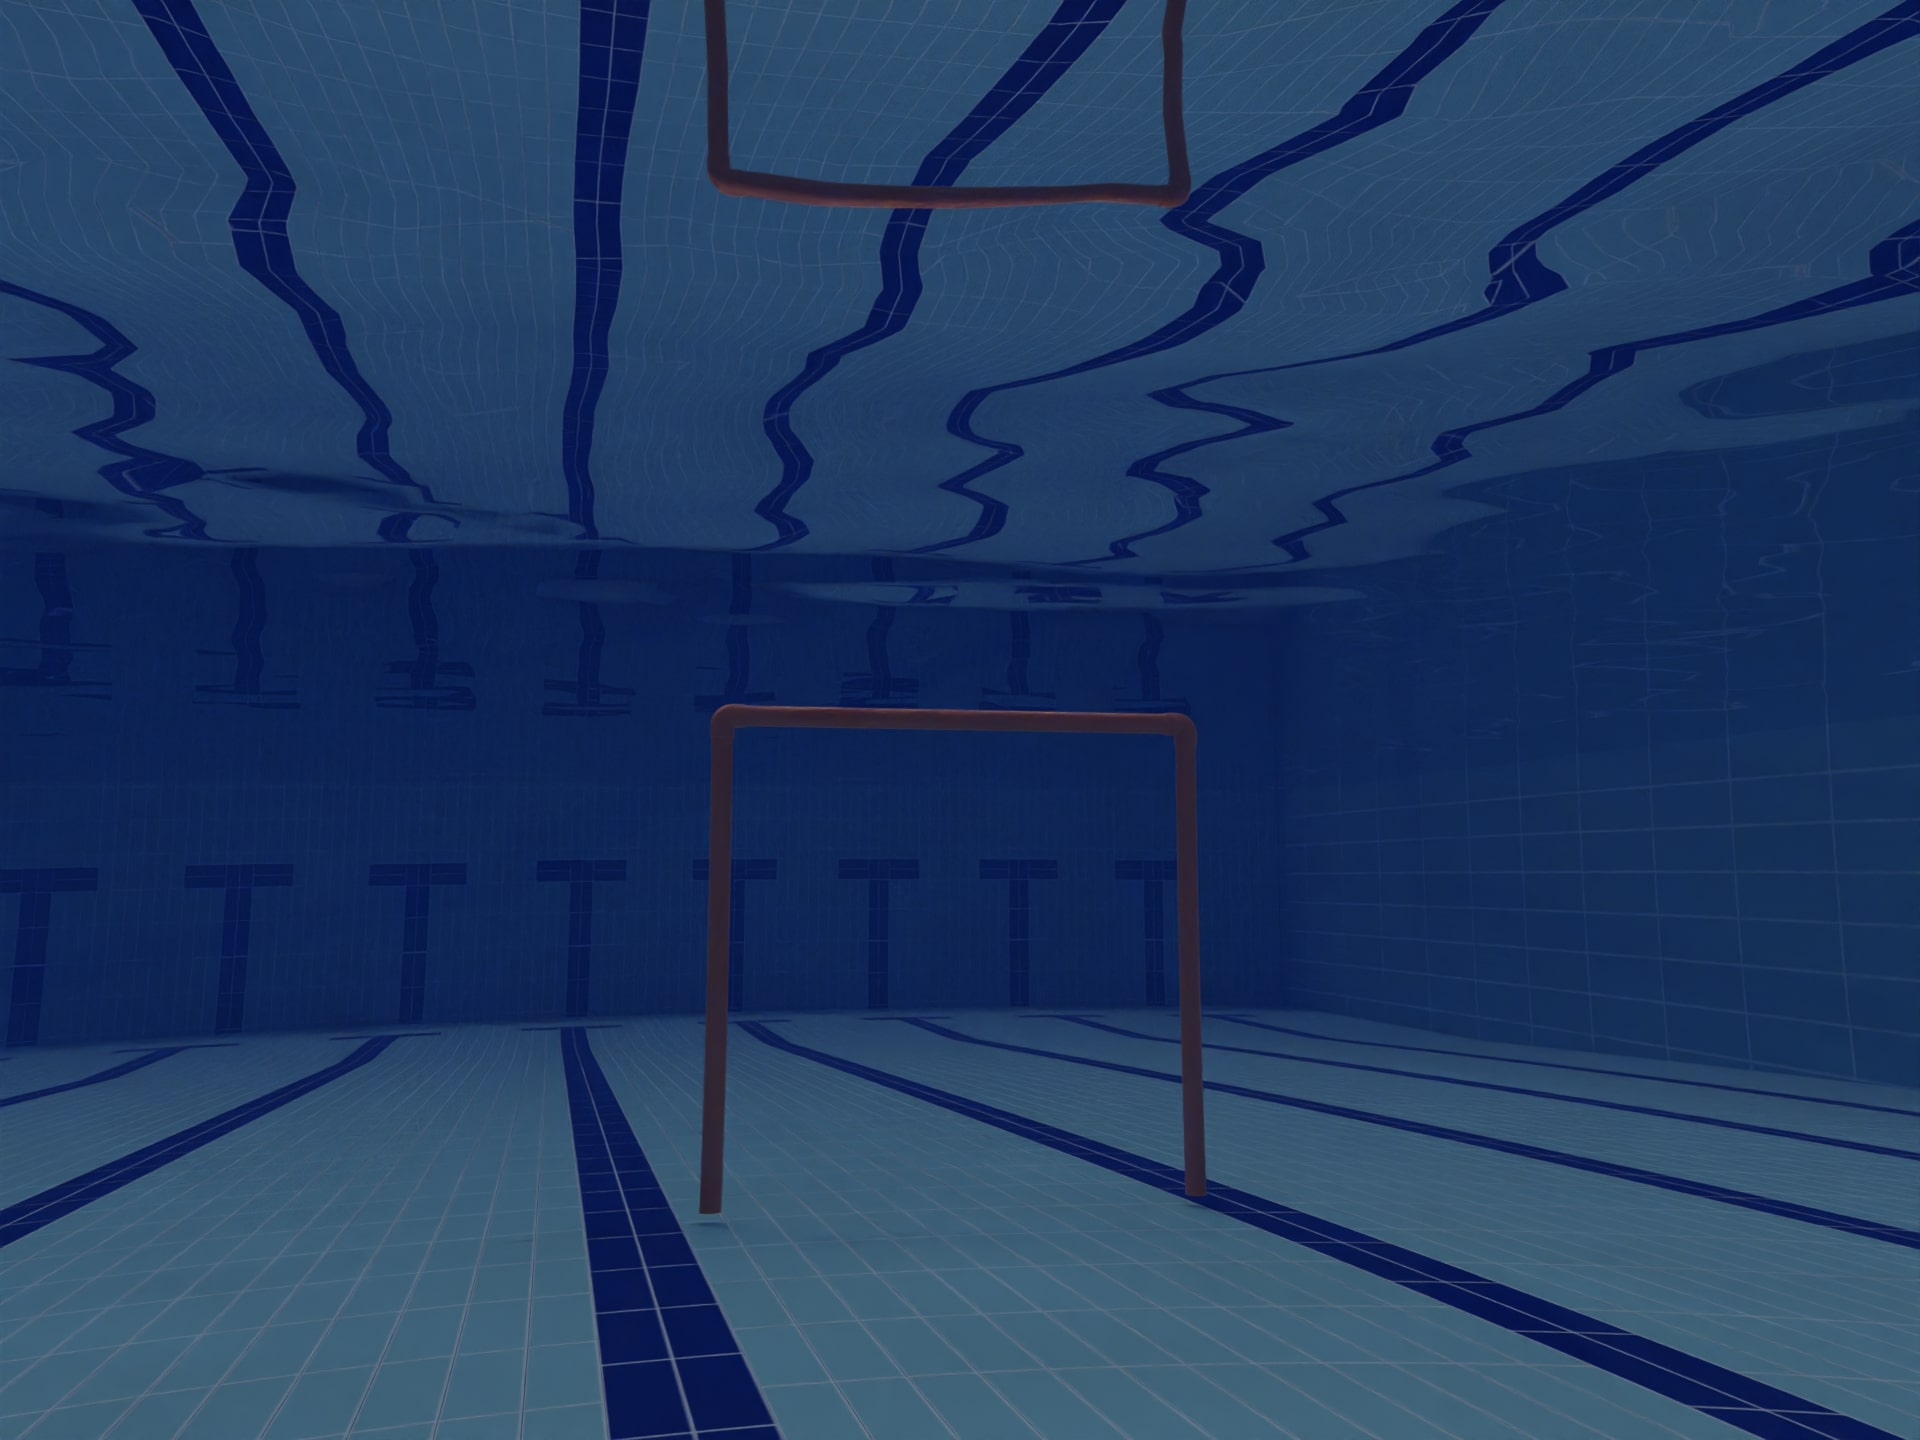gate: (664, 663, 1268, 1246)
